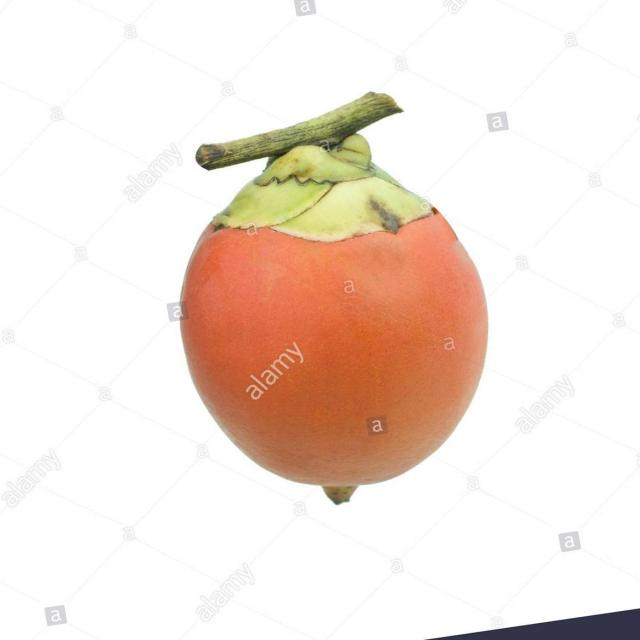good: (179, 136, 490, 506)
